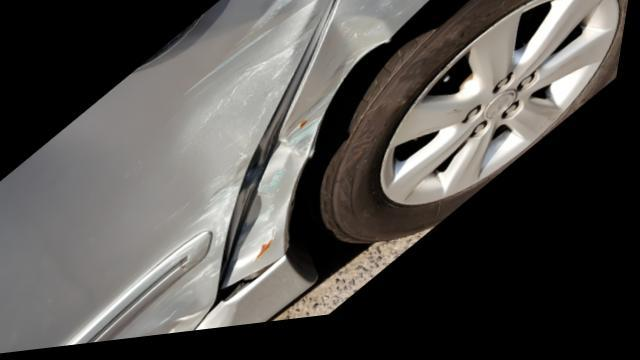dent: (0, 0, 327, 355), (245, 23, 392, 273)
scratch: (333, 0, 434, 37)
